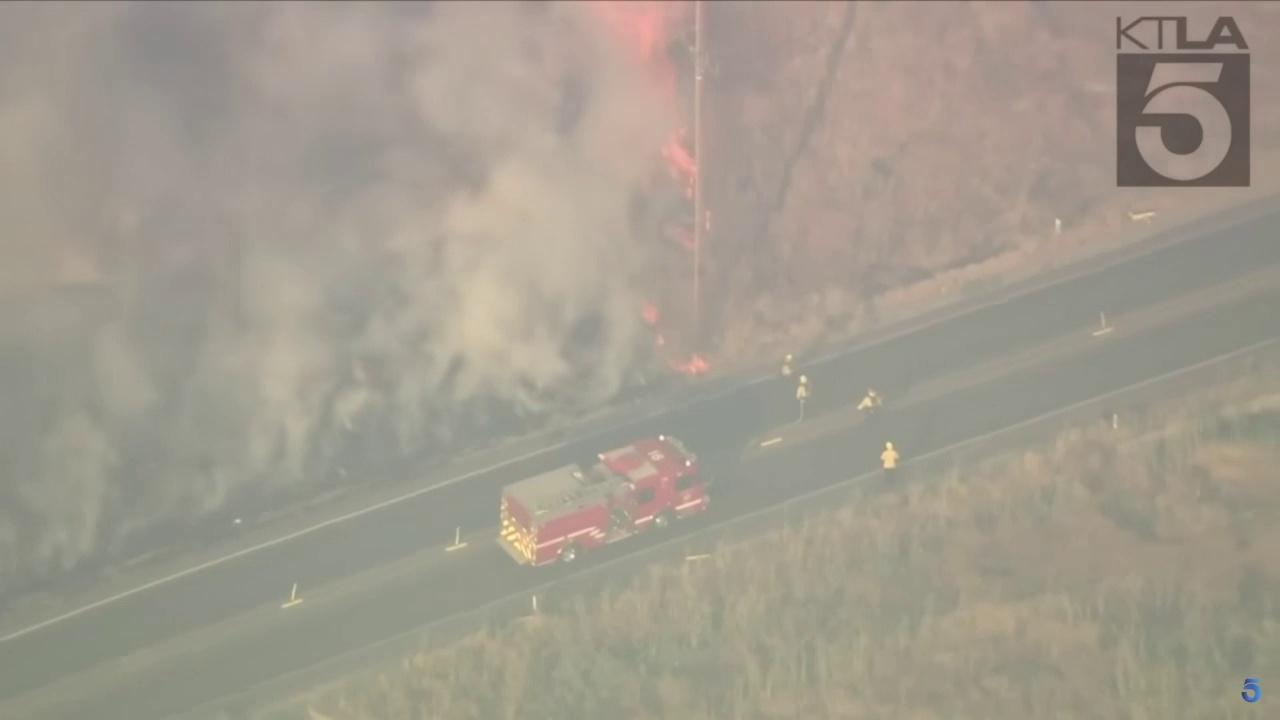fire: (658, 125, 697, 202), (666, 353, 712, 377), (640, 301, 660, 325), (704, 210, 712, 232), (656, 334, 667, 345)
smoke: (0, 0, 696, 574)
